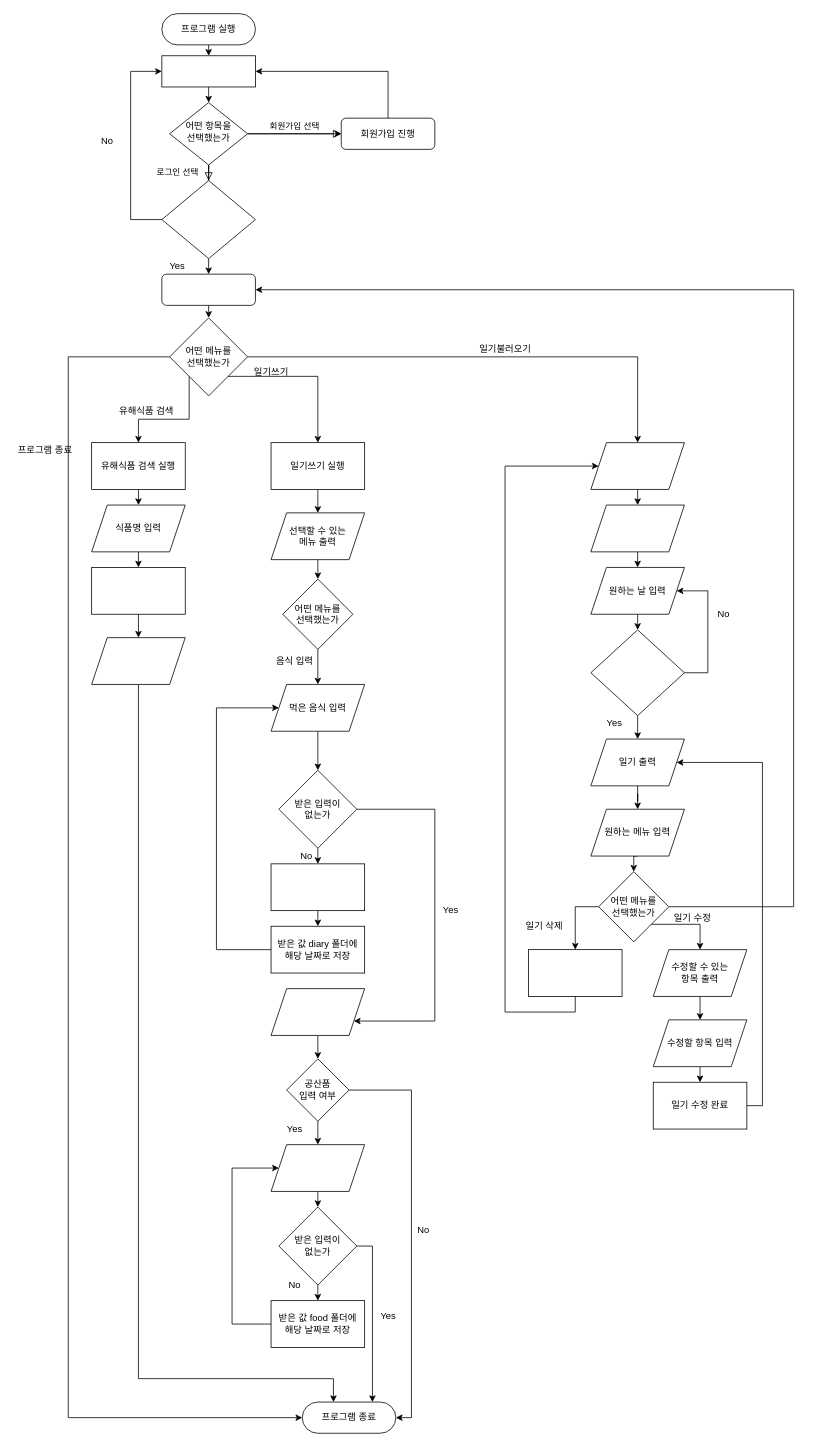
Some shapes in this 814 by 1447 pixel diagram are drawn without their labels. The centre of each missing label's shape, as x and y in pixels:
검색 함수에 보내고 결과 받아오기: the point at 317,887
결과 출력: the point at 138,660
공산품 입력 할건지 입력받기: the point at 317,1011
로그인, 회원가입 선택: the point at 208,71
로그인이 제대로 되었는가: the point at 208,219
먹은 공산품 입력: the point at 317,1167
메뉴 선택: the point at 208,289
원하는 년도 / 월 입력: the point at 637,465
해당 날의 일기가 존재하는가: the point at 637,672
해당 날짜 일기 삭제: the point at 575,972
해당 년도 / 월에 존재하는 일기파일 출력: the point at 637,528
해당식품 유해식품인지 검사: the point at 138,590
